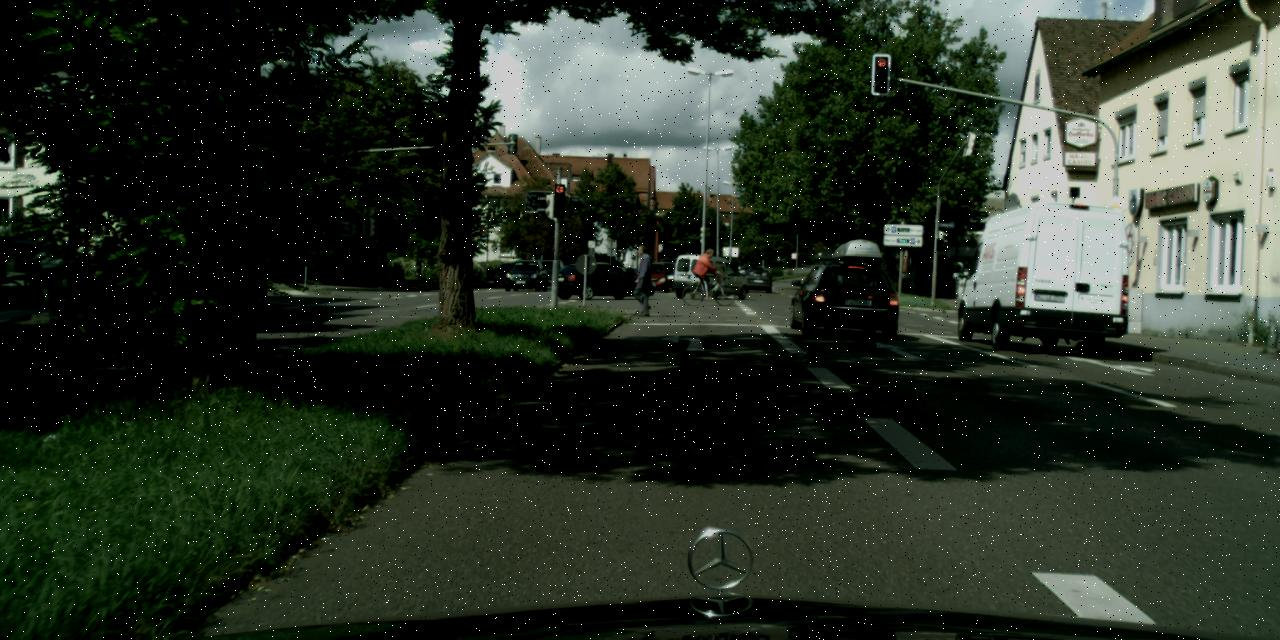ped: (630, 244, 658, 314), (697, 248, 717, 296)
